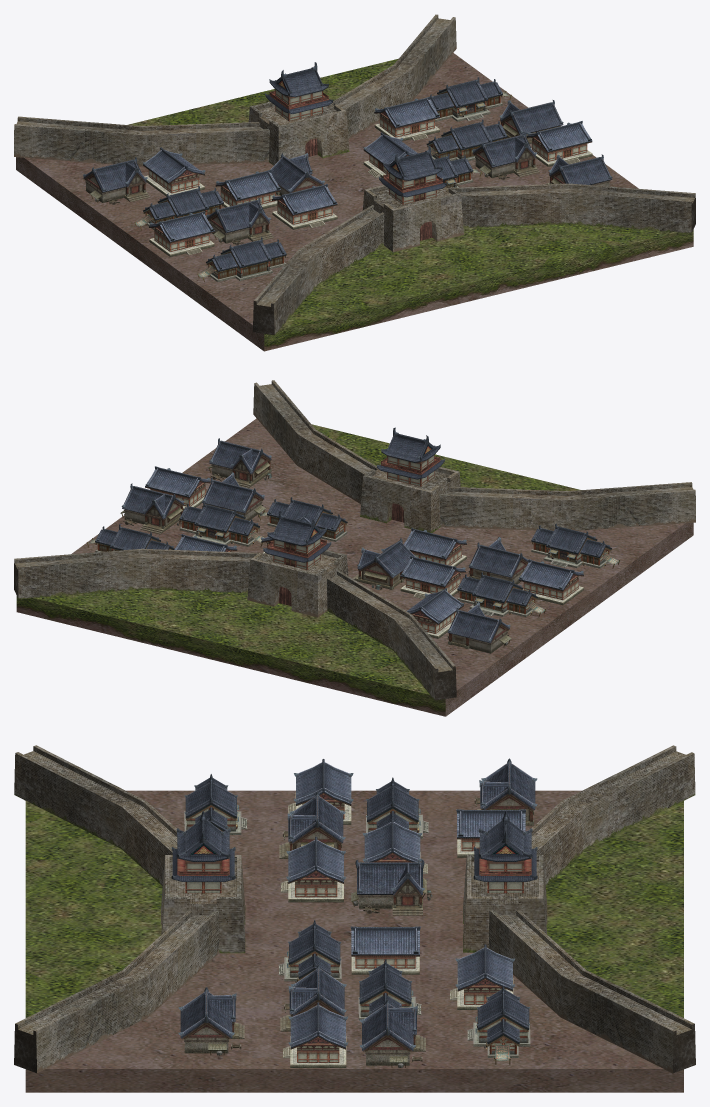
The model's file is map013.FBX.
The picture shows the model from 3 angles, top to bottom: view 1: azimuth 30°, elevation 25°; view 2: azimuth 150°, elevation 25°; view 3: azimuth 270°, elevation 25°; orthographic projection. The views are drawn at different scales.
Visible parts, largest first — view 1: map013, Box070, house224, house226, house235, house315, house214; view 2: map013, Box070, house226, house235, house224, house214, house315; view 3: map013, Box070, house224, house226, house235, house315, house214.
Part boxes in pixels (x1,y1,x2,y2): map013: (16,53,693,351); Box070: (14,14,695,335); house224: (142,96,592,256); house226: (83,100,612,245); house235: (134,77,511,282); house315: (265,62,333,121); house214: (379,145,446,204); map013: (16,418,693,716); Box070: (14,380,695,700); house226: (120,438,530,653); house235: (86,497,620,617); house224: (145,466,583,638); house214: (376,427,444,486); house315: (263,511,331,569); map013: (25,790,683,1092); Box070: (14,745,695,1073); house224: (280,759,525,1067); house226: (178,758,537,1067); house235: (184,774,530,1064); house315: (473,811,537,893); house214: (171,811,235,893).
Size of the model in its own units: 103 by 22.42 by 104.
